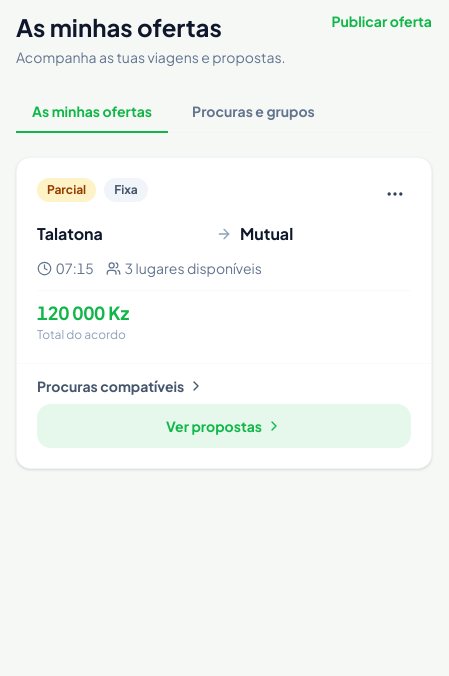
Test case: DriverDashboard — marketplace › separa direct e waitlist: só direct tem «Enviar proposta»
The image size is (449, 676).
Expected: the text "Talatona" is shown, 37,223 -> 103,244
Click the tab "Procuras e grupos": click(254, 112) 176,91 -> 331,133
(page scrolled)
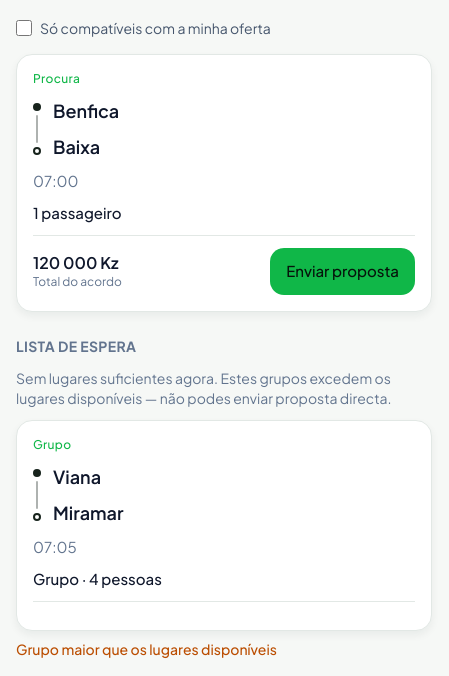
Expected: the text "Benfica" is shown, 53,99 -> 119,123
Expected: the text "Viana" is shown, 53,464 -> 101,488
Expected: the element with test id "waitlist-bucket" is shown, 16,328 -> 432,658
